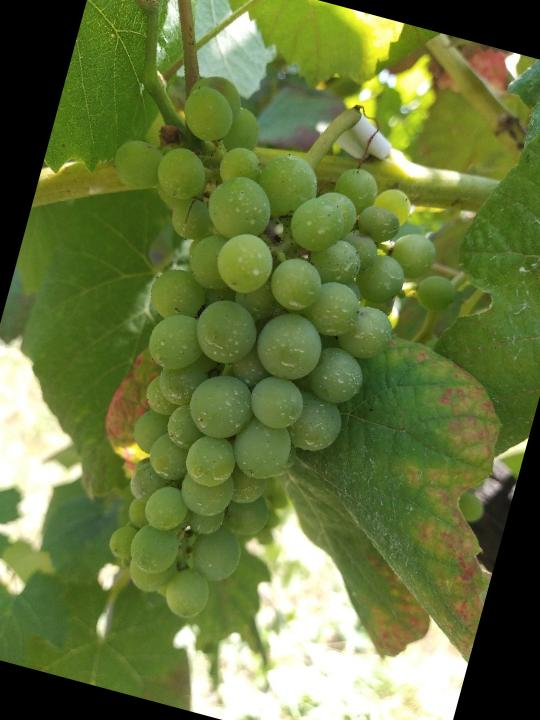grape: (0, 50, 493, 670)
